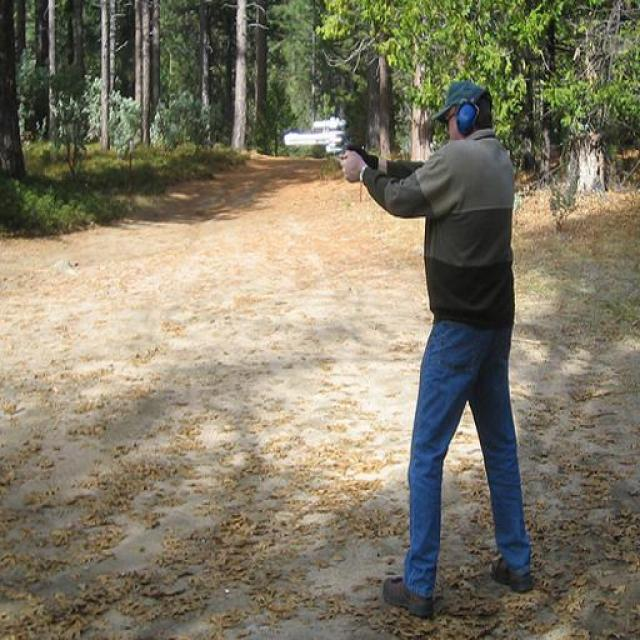pistol: (281, 114, 350, 155)
